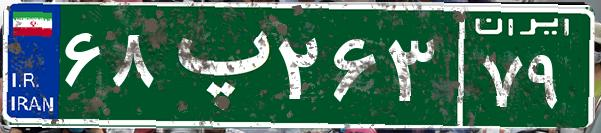2: (273, 28, 330, 110)
3: (385, 28, 445, 110)
6: (330, 28, 385, 110), (57, 26, 110, 107)
7: (475, 38, 525, 113)
8: (110, 28, 158, 105)
9: (525, 38, 570, 115)
پ: (158, 15, 273, 115)
